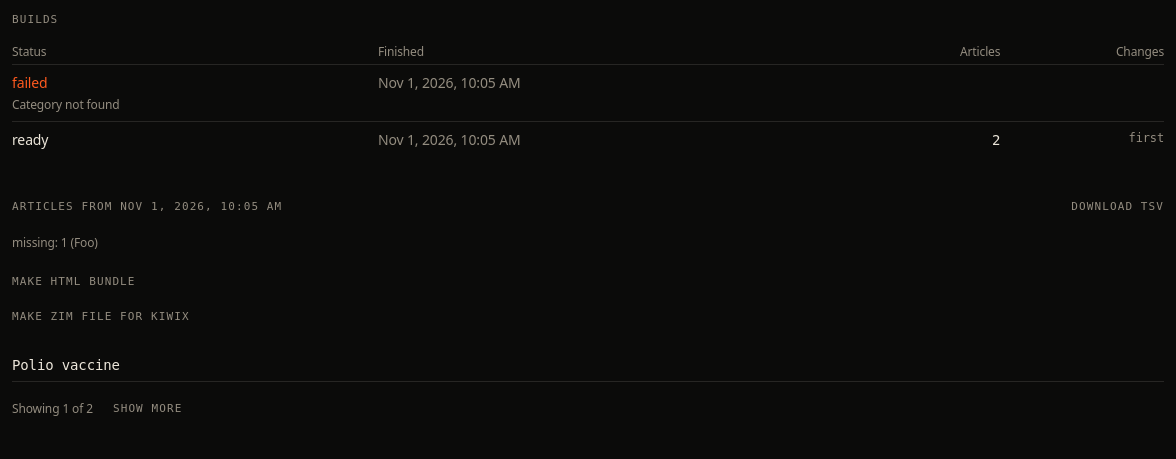
it: ListDetail › shows the build history and the articles of the latest ready build
Expected: the text "Category not found" is shown, x1=12 y1=96 x2=120 y2=113
Expected: the list item "missing: 1 (Foo)" is shown, x1=12 y1=234 x2=98 y2=251
Click the button "Show more". click: (148, 409)
box: x1=113 y1=394 x2=182 y2=424
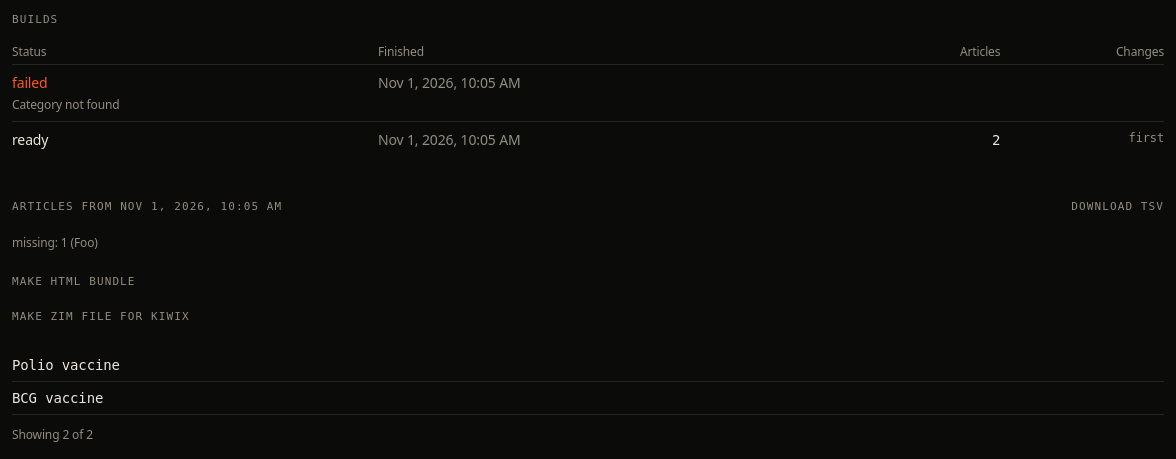
Expected: the link "BCG vaccine" is shown, x1=12 y1=390 x2=103 y2=406
Expected: the button "Show more" is gone
